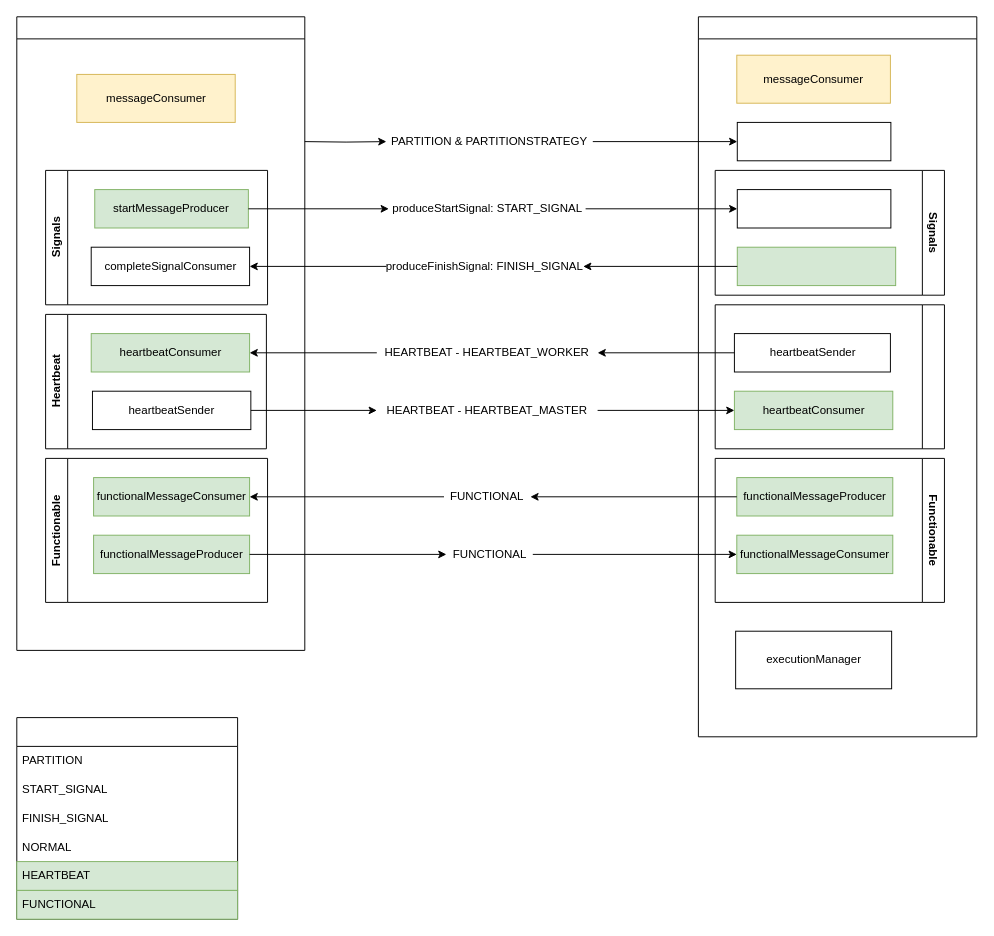
This 994x936 diagram has some shape labels left out. The box of each missing label's shape, as (x1, y1, x2, y2) in pixels:
completeSignalProducer: (736, 246, 896, 286)
Heatbeat: (714, 304, 944, 449)
MailType: (16, 717, 238, 919)
Master Server: (16, 16, 305, 650)
partitionMessageConsumer: (736, 121, 891, 161)
startMessageConsumer: (736, 189, 891, 228)
Worker Server: (697, 16, 977, 737)
